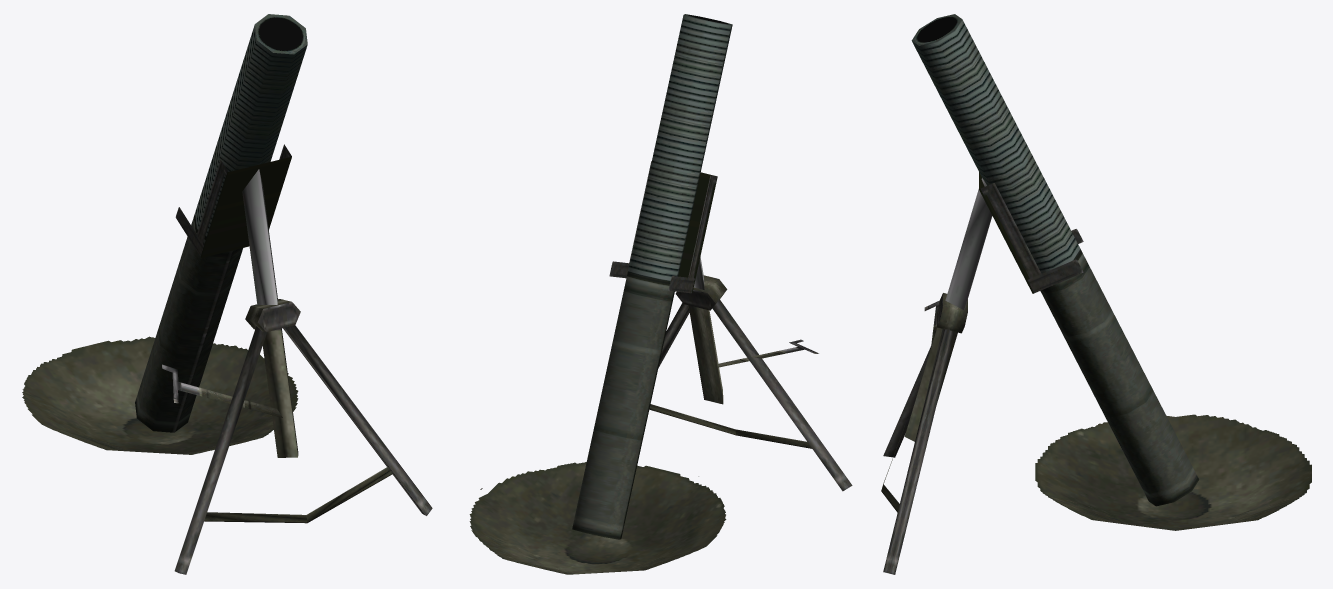
Rendered from MORTAR.glb.
The picture shows the model from 3 angles, left to right: view 1: azimuth 30°, elevation 25°; view 2: azimuth 150°, elevation 25°; view 3: azimuth 270°, elevation 25°; orthographic projection. The views are drawn at different scales.
Visible parts, largest first — view 1: _MORTAR; view 2: _MORTAR; view 3: _MORTAR.
Part boxes in pixels (x1,y1,x2,y2): _MORTAR: (22,14,432,574); _MORTAR: (469,14,852,574); _MORTAR: (881,14,1311,574).
Bounding box in the file's own units: 0.8006 × 1.49 × 1.19.
Materials: 1 (1 with a texture image).
